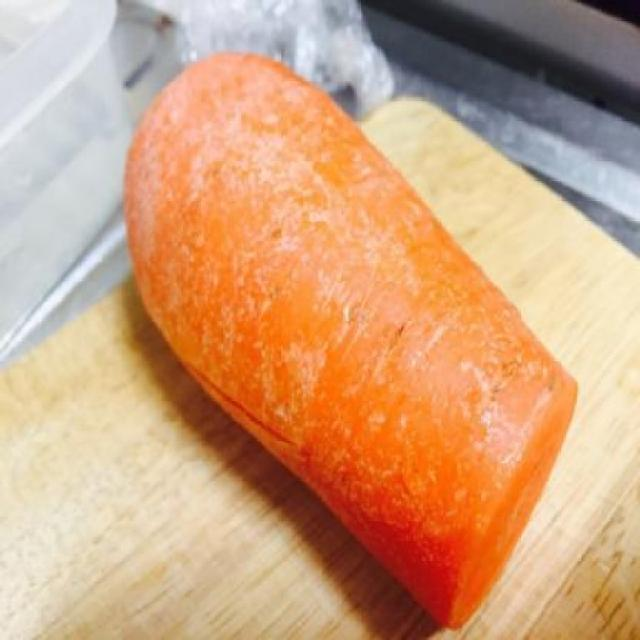carrot: (121, 49, 584, 640)
